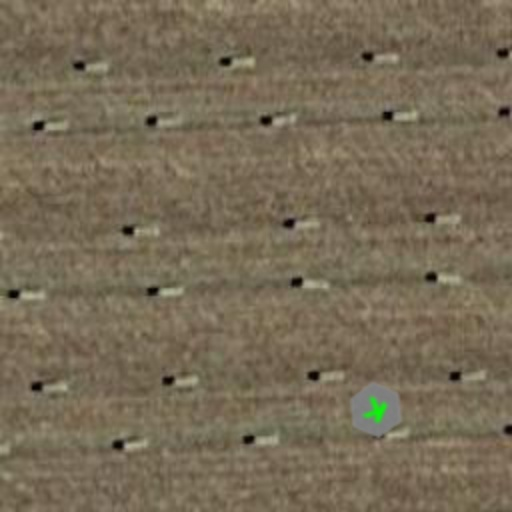hexagon: (338, 372, 414, 448)
